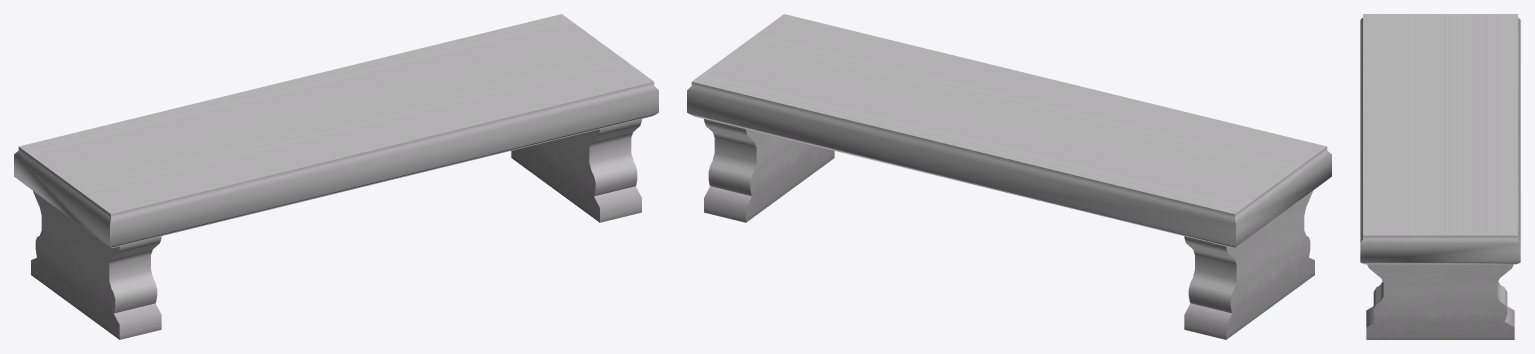
File: Bin (1).fbx
3 renders of one model, left to right at view 1: azimuth 30°, elevation 25°; view 2: azimuth 150°, elevation 25°; view 3: azimuth 270°, elevation 25°, orthographic. The views are drawn at different scales.
Parts seen in each view (by area): view 1: Bin (1); view 2: Bin (1); view 3: Bin (1).
Part boxes in pixels (x1=…): Bin (1): x1=14, y1=14, x2=658, y2=339; Bin (1): x1=687, y1=14, x2=1331, y2=339; Bin (1): x1=1360, y1=14, x2=1520, y2=339.
Size of the model in its own units: 1.2 by 0.2713 by 0.3633.
Materials: 1 (1 with a texture image).
